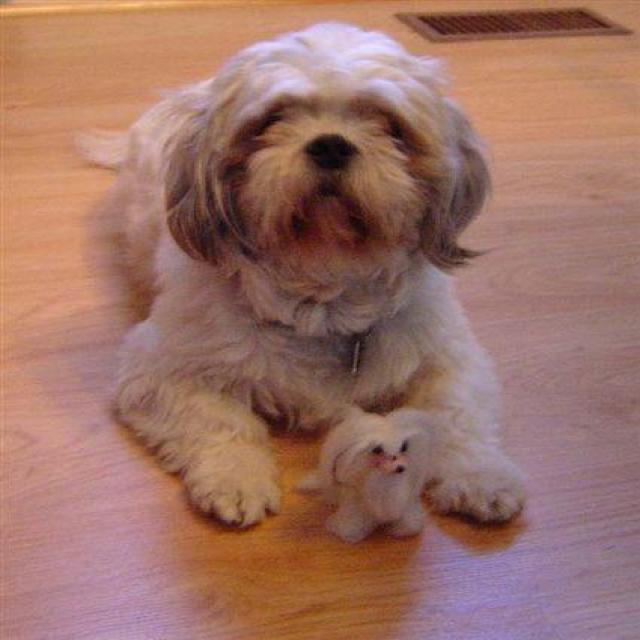shih_tzu: (65, 24, 524, 525)
